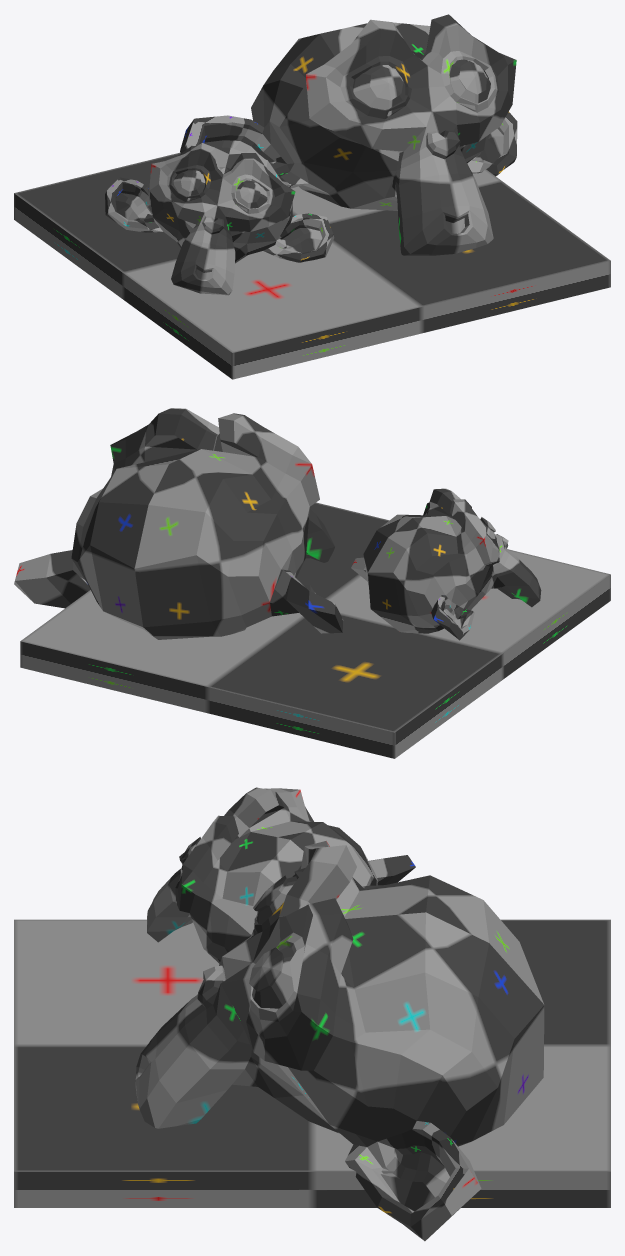
Rendered from monkey_stage.gltf.
The picture shows the model from 3 angles, top to bottom: view 1: azimuth 30°, elevation 25°; view 2: azimuth 150°, elevation 25°; view 3: azimuth 270°, elevation 25°; orthographic projection. The views are drawn at different scales.
Parts seen in each view (by area): view 1: Cube, Suzanne.001, Suzanne; view 2: Cube, Suzanne.001, Suzanne; view 3: Suzanne.001, Cube, Suzanne.
Boxes of the visible parts, x1=… form: Cube: x1=14, y1=152, x2=610, y2=379; Suzanne.001: x1=180, y1=14, x2=517, y2=255; Suzanne: x1=105, y1=143, x2=334, y2=295; Cube: x1=20, y1=502, x2=610, y2=758; Suzanne.001: x1=14, y1=408, x2=343, y2=639; Suzanne: x1=351, y1=488, x2=541, y2=640; Suzanne.001: x1=135, y1=841, x2=544, y2=1241; Cube: x1=14, y1=919, x2=610, y2=1207; Suzanne: x1=147, y1=787, x2=415, y2=963.
Bounding box in the file's own units: 9.37 × 4.35 × 8.
1 material, 1 textured.
